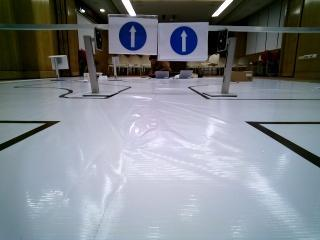straight: (160, 23, 209, 62), (108, 16, 158, 54)
